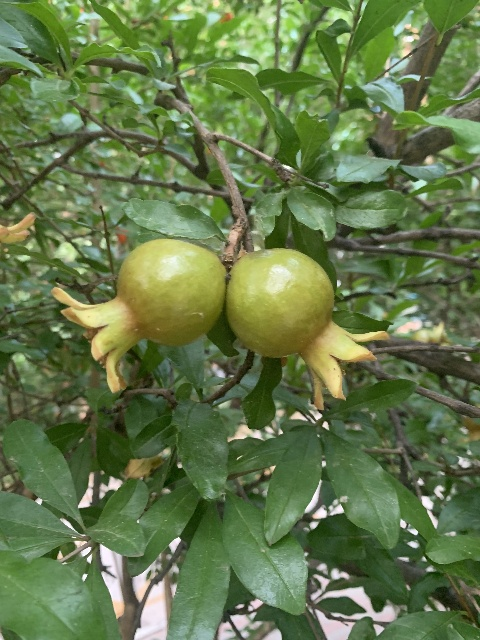mid-growth: (224, 247, 389, 411), (52, 238, 226, 393)
